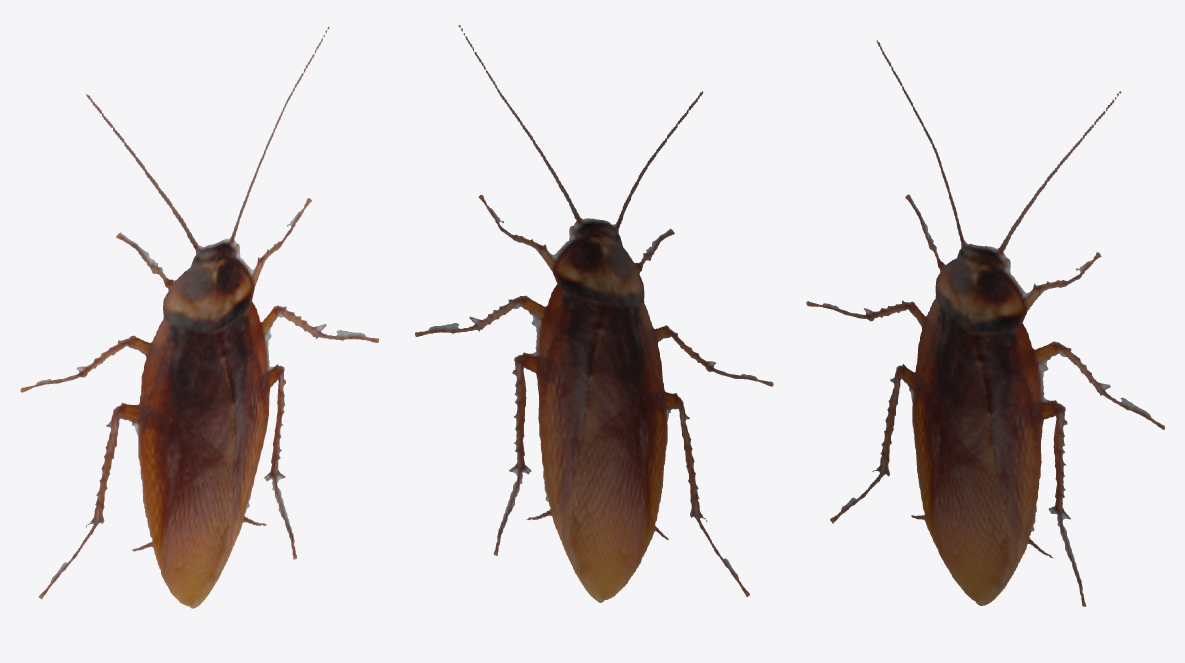
File: roach.FBX
3 views of the same model, side by side, from view 1: azimuth 30°, elevation 25°; view 2: azimuth 150°, elevation 25°; view 3: azimuth 330°, elevation 25° (orthographic).
Visible parts, largest first — view 1: roach_body; view 2: roach_body; view 3: roach_body.
Part boxes in pixels (x1,y1,x2,y2): roach_body: (20, 27, 378, 608); roach_body: (415, 25, 773, 602); roach_body: (806, 40, 1164, 606).
Size of the model in its own units: 7.11 by 10.26 by 0.7894.
